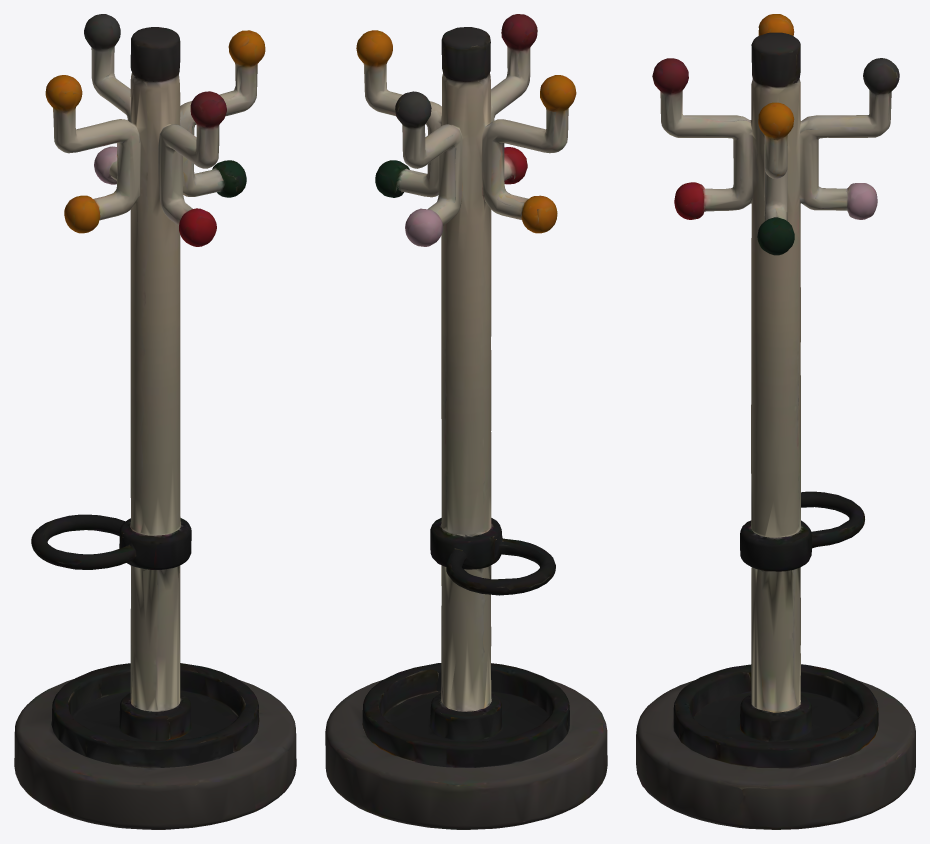
Rendered from coat_rack.glb.
3 views of the same model, side by side, from view 1: azimuth 30°, elevation 25°; view 2: azimuth 150°, elevation 25°; view 3: azimuth 270°, elevation 25° (orthographic).
Parts seen in each view (by area): view 1: geometry_0; view 2: geometry_0; view 3: geometry_0.
Part boxes in pixels (left/top/right/bottom): geometry_0: left=14, top=14, right=296, bottom=829; geometry_0: left=325, top=14, right=607, bottom=829; geometry_0: left=636, top=14, right=915, bottom=829.
Bounding box in the file's own units: 0.3467 × 1 × 0.347.
Materials: 1 (1 with a texture image).
